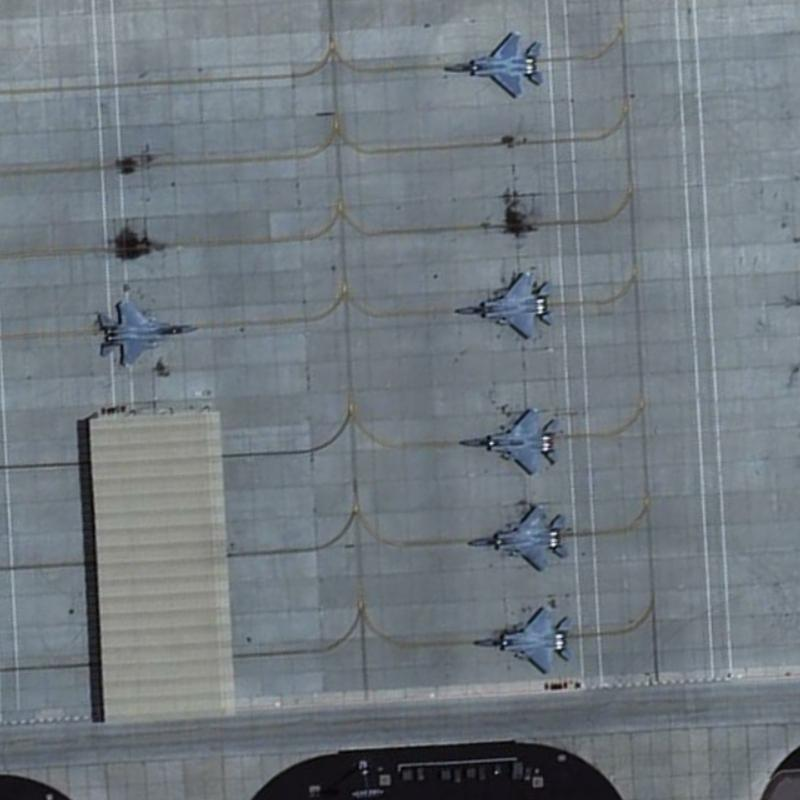A13: (83, 289, 202, 376), (447, 259, 563, 348), (462, 593, 577, 677), (431, 26, 550, 106), (452, 397, 567, 478), (460, 495, 575, 575)
